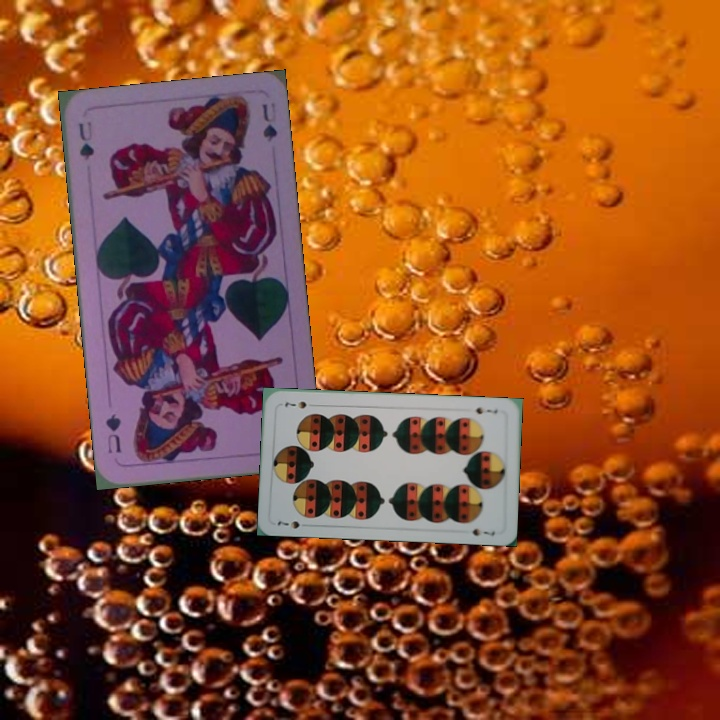GU: (74, 117, 97, 162)
S7: (273, 517, 312, 531), (471, 403, 500, 417)
